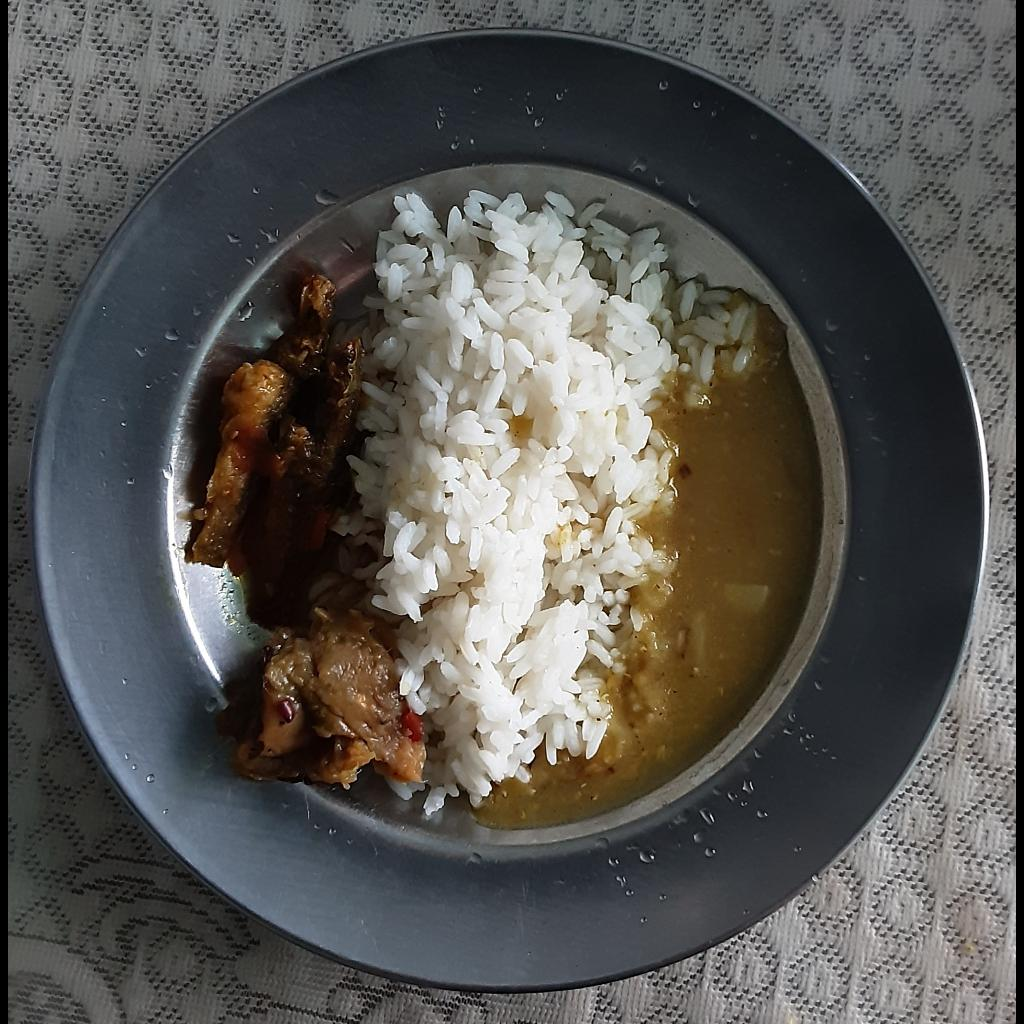achar: (217, 623, 426, 789)
daal: (472, 307, 826, 829)
fish: (191, 267, 362, 630)
rice: (309, 188, 766, 815)
